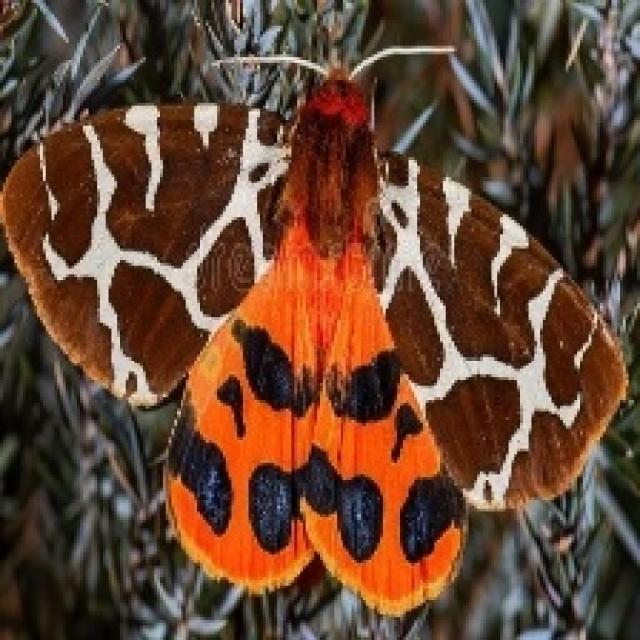butterfly: (0, 6, 629, 620)
